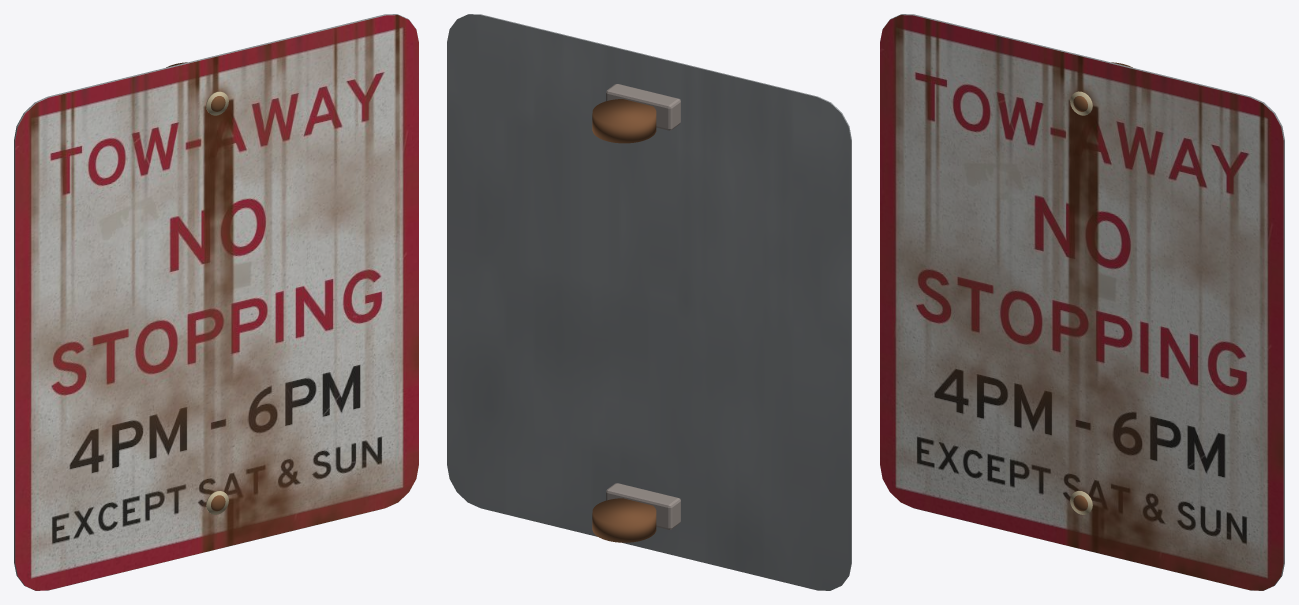
The model's file is towAway-v1-rusty.glb.
3 renders of one model, left to right at view 1: azimuth 30°, elevation 25°; view 2: azimuth 150°, elevation 25°; view 3: azimuth 330°, elevation 25°, orthographic.
Visible parts, largest first — view 1: towAway-v1-rusty; view 2: towAway-v1-rusty; view 3: towAway-v1-rusty.
Boxes of the visible parts, bbox=[...] form: towAway-v1-rusty: bbox=[14, 14, 418, 590]; towAway-v1-rusty: bbox=[447, 14, 851, 590]; towAway-v1-rusty: bbox=[880, 14, 1284, 590].
Bounding box in the file's own units: 0.4572 × 0.5333 × 0.0871.
Materials: 1 (1 with a texture image).
